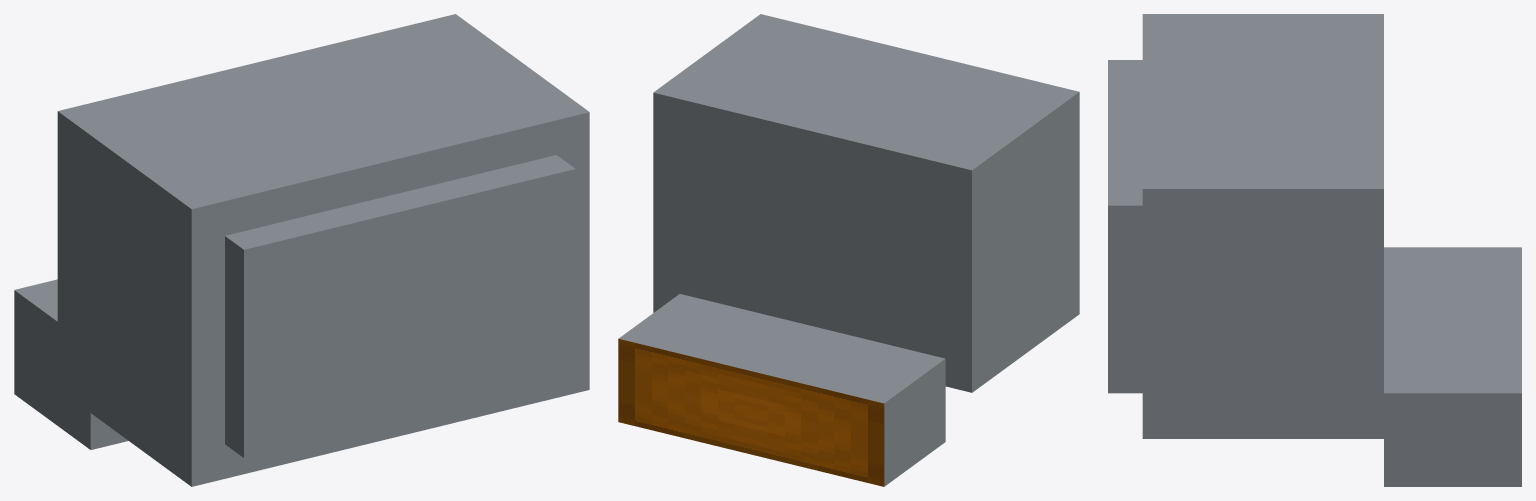
File: lps_wall_pack_item.obj
3 views of the same model, side by side, from view 1: azimuth 30°, elevation 25°; view 2: azimuth 150°, elevation 25°; view 3: azimuth 270°, elevation 25° (orthographic). The views are drawn at different scales.
Visible parts, largest first — view 1: lps_wall_pack_item; view 2: lps_wall_pack_item; view 3: lps_wall_pack_item.
Part boxes in pixels (bbox=[...]): lps_wall_pack_item: bbox=[14, 14, 589, 486]; lps_wall_pack_item: bbox=[618, 14, 1079, 486]; lps_wall_pack_item: bbox=[1108, 14, 1521, 486].
Bounding box in the file's own units: 0.75 × 0.625 × 0.75.
